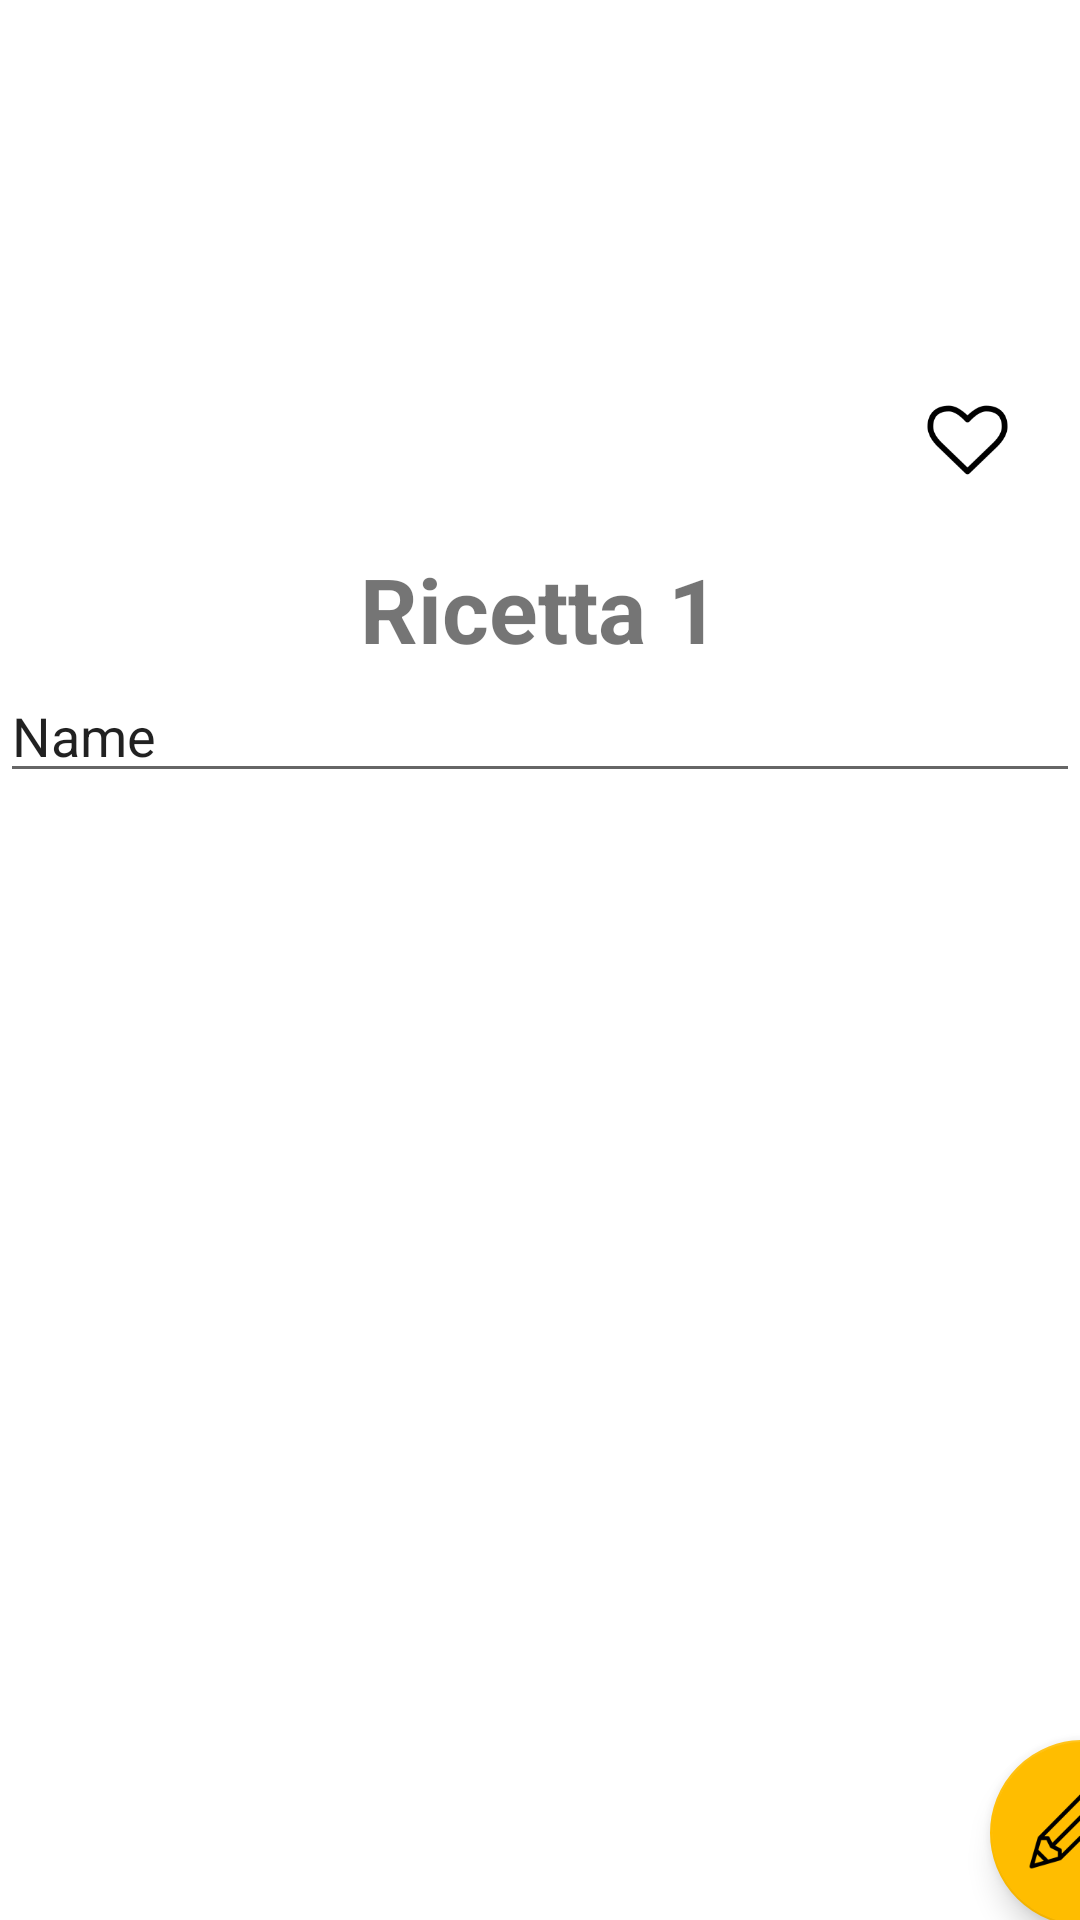

Screen size 1080 x 1920. Icon name, then its box in pixels as (x1, y1, x2, y2):
heart: (927, 405, 1008, 475)
